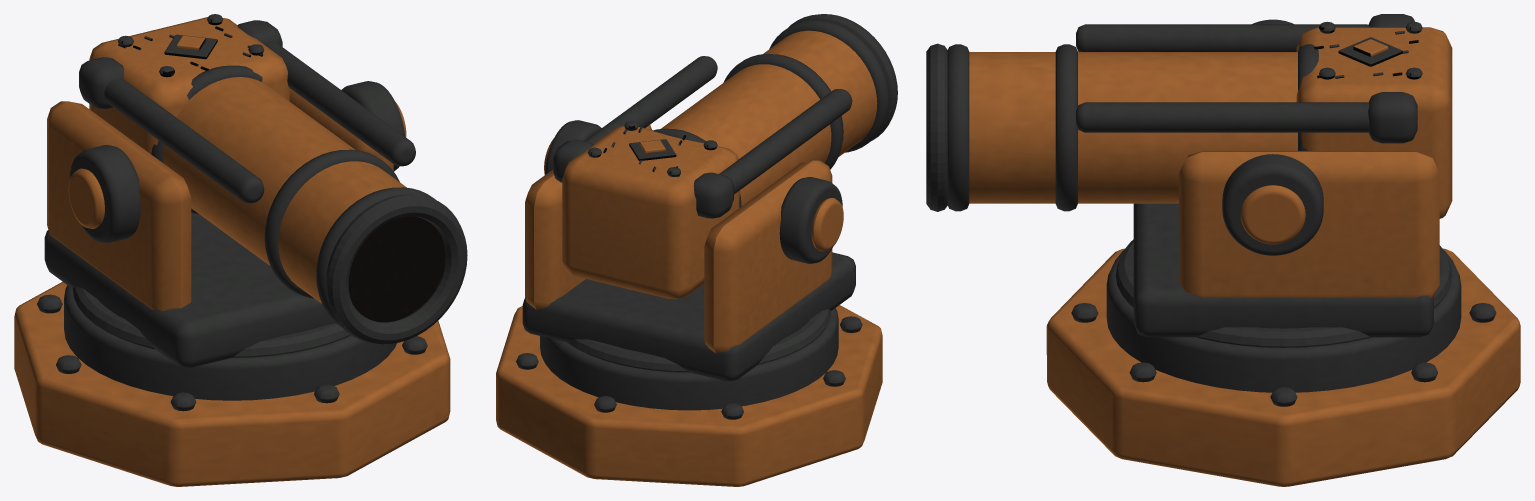
The model's file is cannon.glb.
The picture shows the model from 3 angles, left to right: view 1: azimuth 30°, elevation 25°; view 2: azimuth 150°, elevation 25°; view 3: azimuth 270°, elevation 25°; orthographic projection. The views are drawn at different scales.
Parts seen in each view (by area): view 1: cannon_HF_받침_볼트.016, cannon_HF_두꺼운_주황_포신.002, cannon_HF_가이드_고정부.004; view 2: cannon_HF_받침_볼트.016, cannon_HF_가이드_고정부.004, cannon_HF_두꺼운_주황_포신.002; view 3: cannon_HF_가이드_고정부.004, cannon_HF_받침_볼트.016, cannon_HF_두꺼운_주황_포신.002.
Part boxes in pixels (left/top/right/bottom): cannon_HF_받침_볼트.016: left=14, top=281, right=450, bottom=486; cannon_HF_두꺼운_주황_포신.002: left=89, top=14, right=467, bottom=344; cannon_HF_가이드_고정부.004: left=44, top=20, right=415, bottom=367; cannon_HF_받침_볼트.016: left=496, top=305, right=882, bottom=486; cannon_HF_가이드_고정부.004: left=522, top=56, right=855, bottom=381; cannon_HF_두꺼운_주황_포신.002: left=562, top=14, right=897, bottom=299; cannon_HF_가이드_고정부.004: left=1076, top=14, right=1439, bottom=337; cannon_HF_받침_볼트.016: left=1046, top=239, right=1520, bottom=486; cannon_HF_두꺼운_주황_포신.002: left=926, top=21, right=1452, bottom=218.
Bounding box in the file's own units: 0.8135 × 0.6504 × 1.02.
3 materials, 3 textured.
